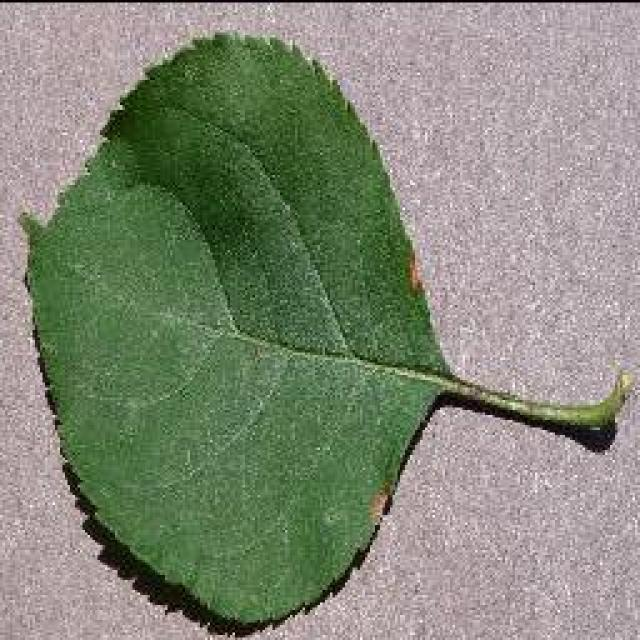black_rot: (388, 250, 439, 308)
